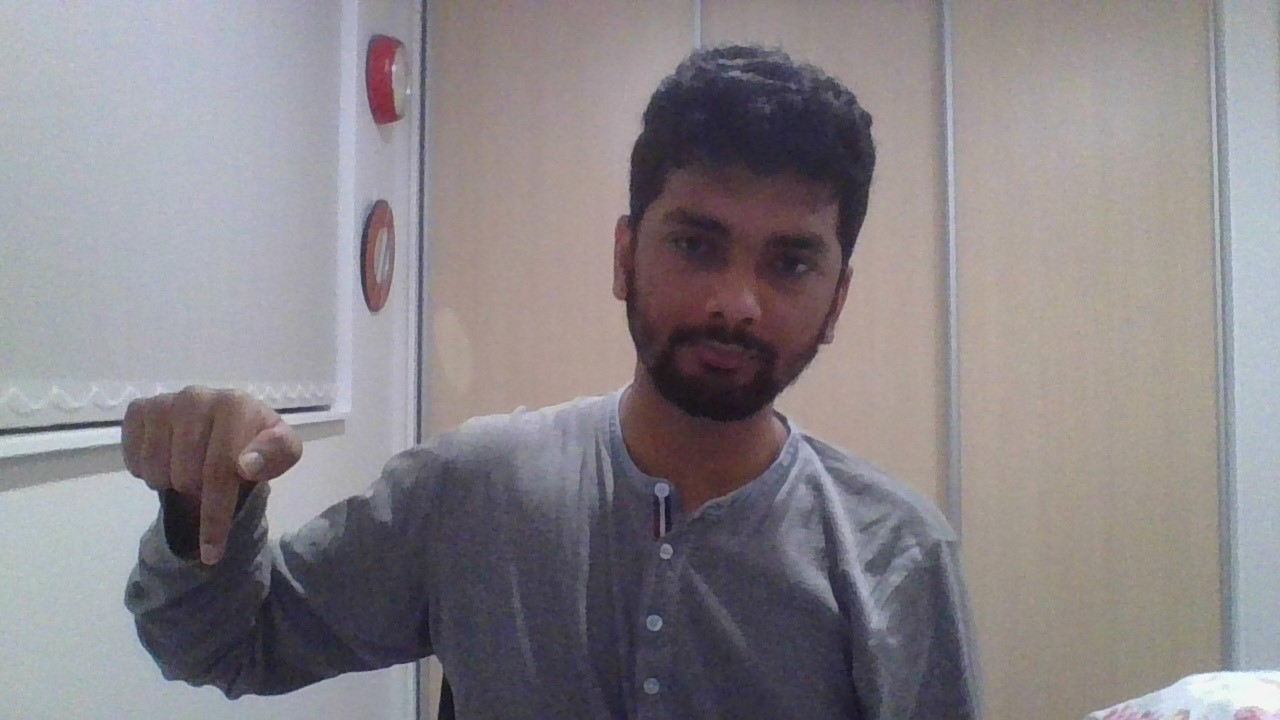below: (123, 386, 305, 565)
